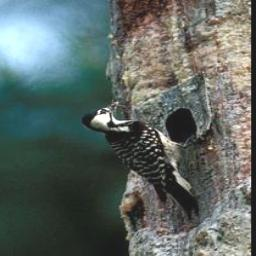Woodpecker: (79, 99, 197, 222)
